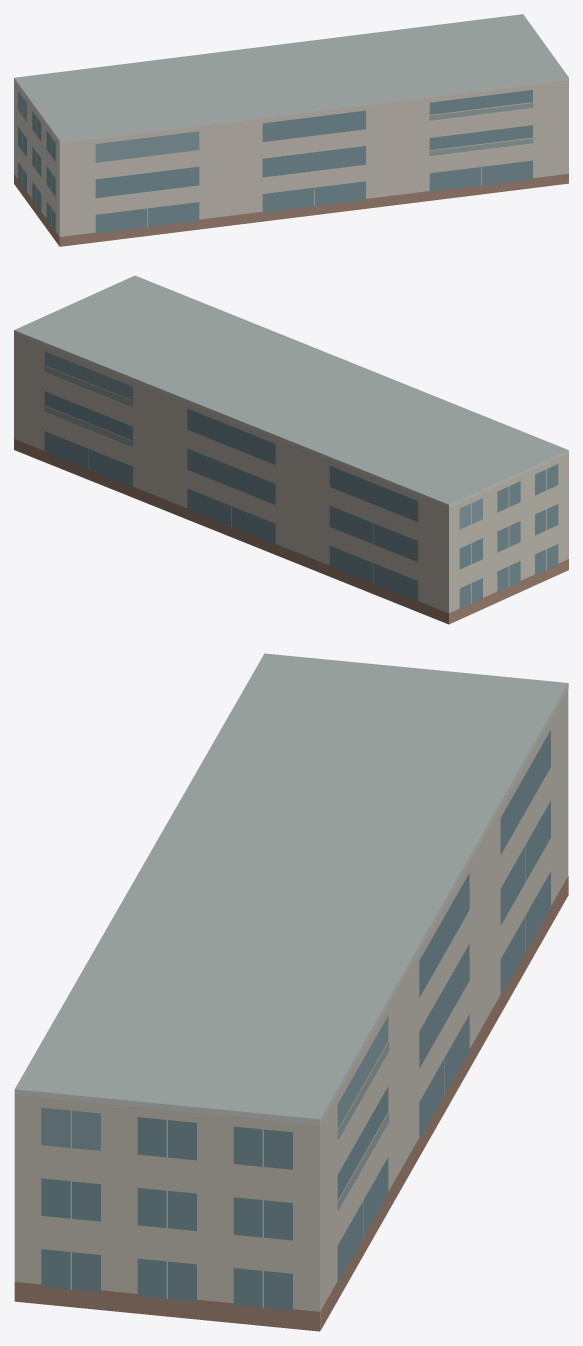
Rendered from survey-upis-33012983.glb.
The picture shows the model from 3 angles, top to bottom: view 1: azimuth 30°, elevation 25°; view 2: azimuth 150°, elevation 25°; view 3: azimuth 270°, elevation 25°; orthographic projection. The views are drawn at different scales.
Parts seen in each view (by area): view 1: survey-upis-33012983.tmp; view 2: survey-upis-33012983.tmp; view 3: survey-upis-33012983.tmp.
Part boxes in pixels (x1,y1,x2,y2): survey-upis-33012983.tmp: (14, 14, 568, 246); survey-upis-33012983.tmp: (14, 275, 568, 624); survey-upis-33012983.tmp: (14, 653, 568, 1331).
Bounding box in the file's own units: 43.09 × 9.15 × 21.66.
